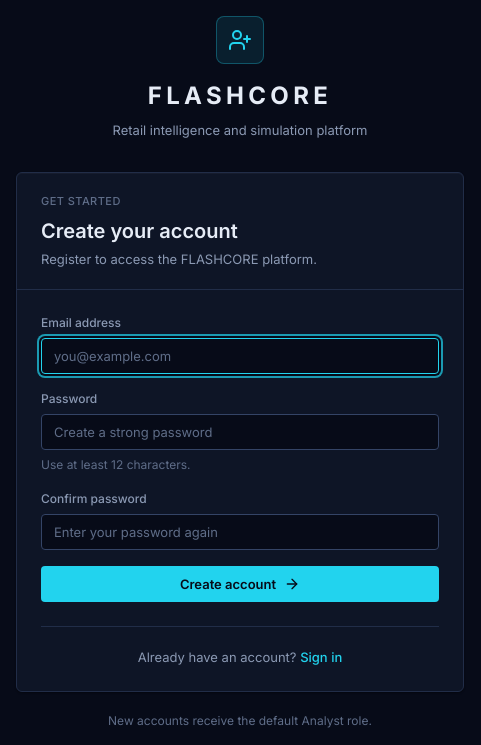
Test: SignupPage › rejects passwords shorter than 12 characters
Type "analyst@flashcore.test" into the field labelled "Email address" at (240, 356), box left=41, top=338, right=439, bottom=374
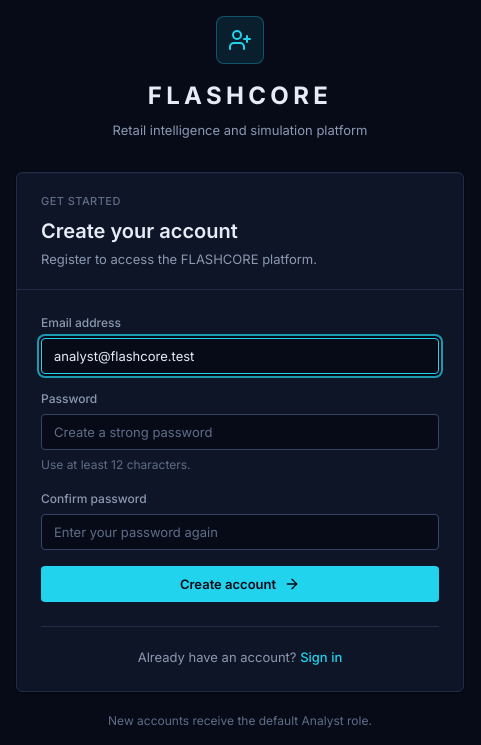
Type "short123" into the password field labelled "Password" at (240, 432), box left=41, top=414, right=439, bottom=450
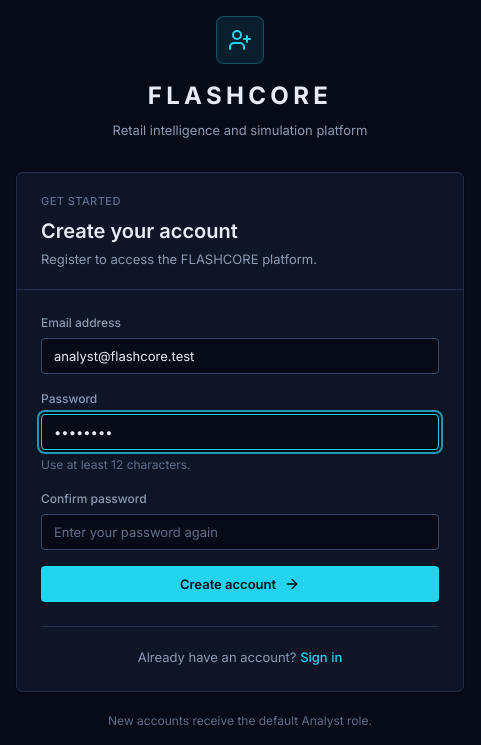
Type "short123" into the password field labelled "Confirm password" at (240, 532), box left=41, top=514, right=439, bottom=550
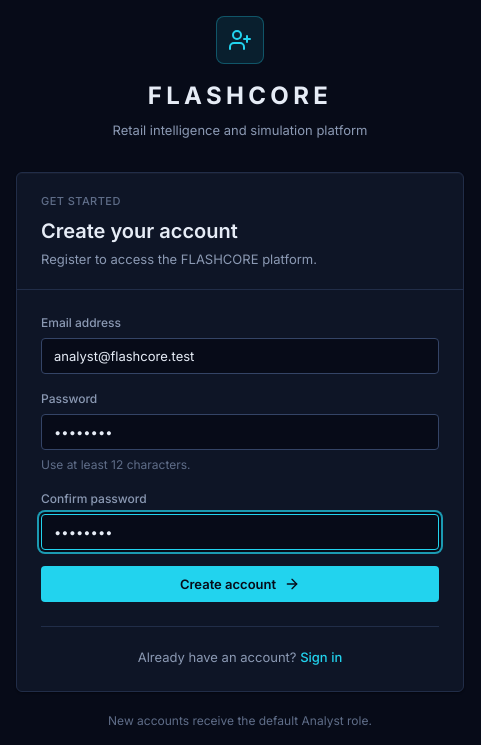
Click the button "Create account" at (240, 584), box left=41, top=566, right=439, bottom=602
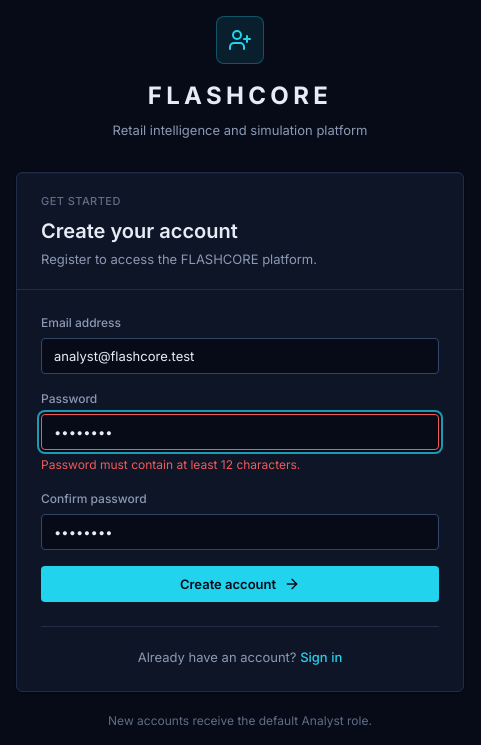
Now the text "Password must contain at least 12 characters." is shown, box left=41, top=457, right=300, bottom=472
